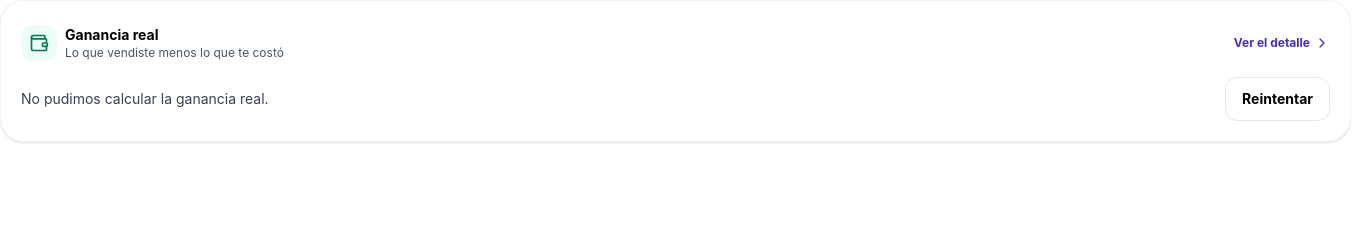
RealProfitCard: ganancia real en el panel (#450) › si falla, avisa y permite reintentar
What coordinates should you click on to do the following:
click the button "Reintentar"
I would click on:
 (1278, 99)
Its box is [1225,77,1330,121].
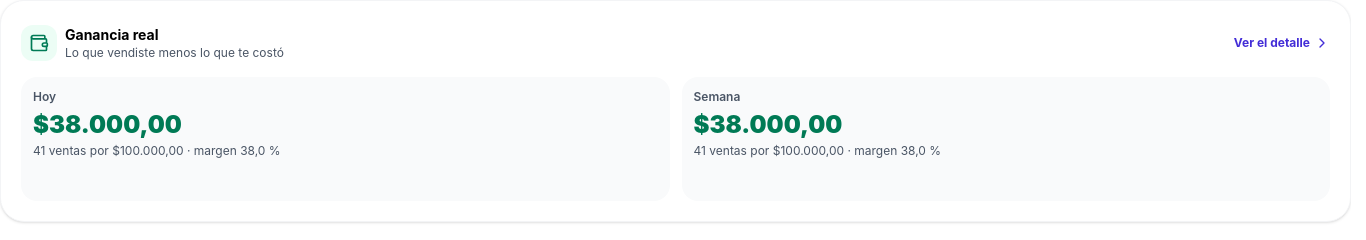
Now the element "Semana" shows "$38.000,00", box [694,110,842,139]
